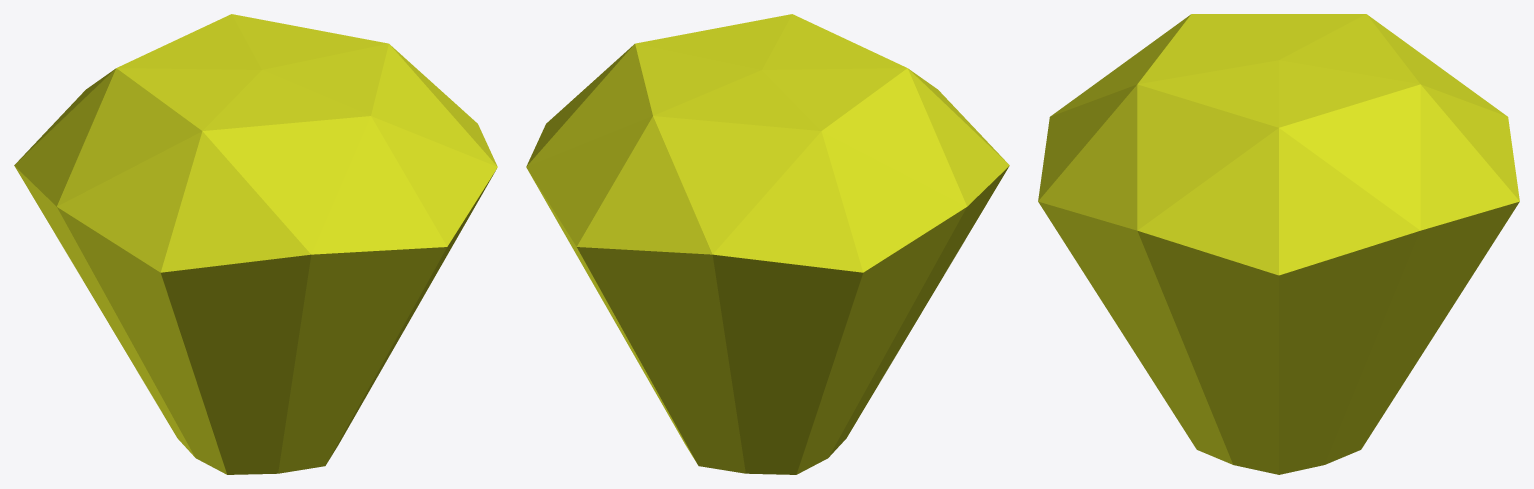
The model's file is CollectableGem (1).fbx.
3 views of the same model, side by side, from view 1: azimuth 30°, elevation 25°; view 2: azimuth 150°, elevation 25°; view 3: azimuth 270°, elevation 25° (orthographic).
Parts seen in each view (by area): view 1: CollectableGem; view 2: CollectableGem; view 3: CollectableGem.
Boxes of the visible parts, x1,y1,x2,y2 form: CollectableGem: [14, 14, 497, 474]; CollectableGem: [526, 14, 1009, 474]; CollectableGem: [1038, 14, 1519, 474].
Size of the model in its own units: 57.38 by 48.43 by 55.94.
